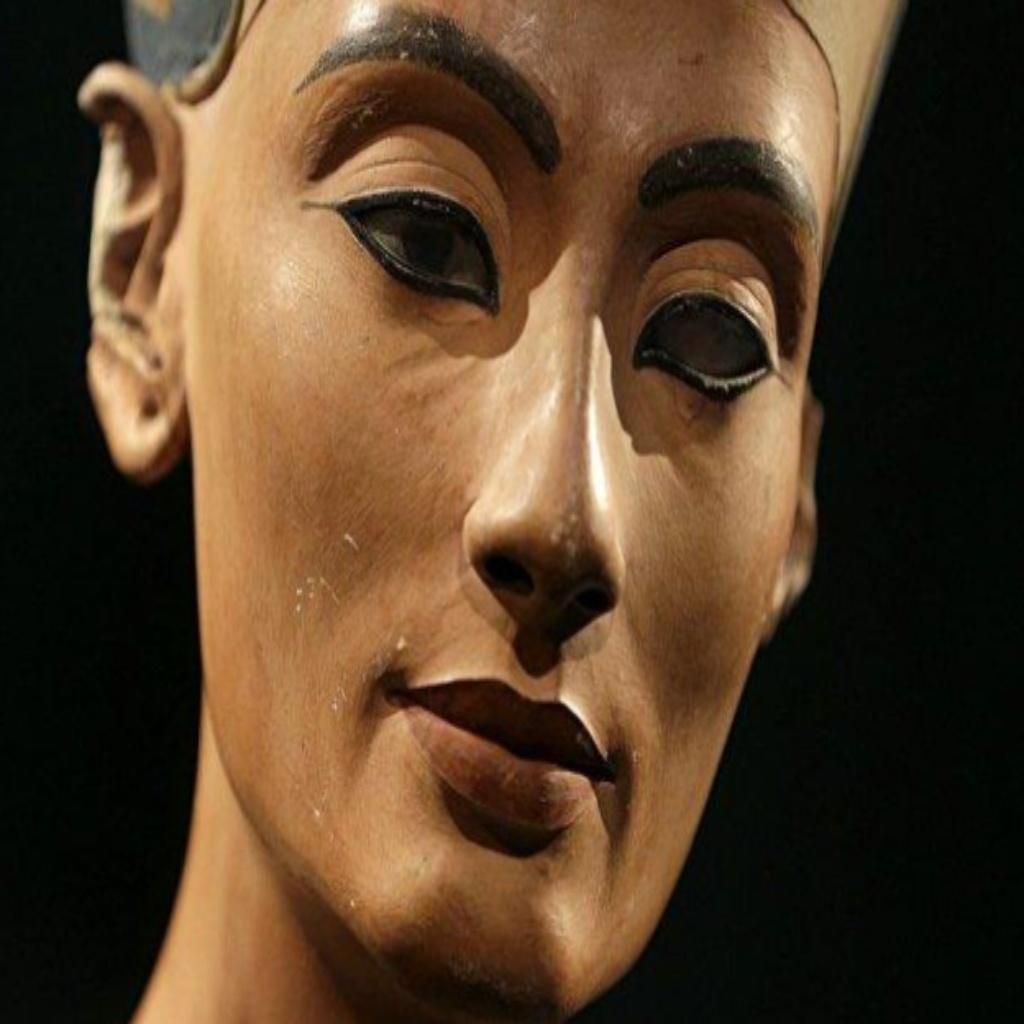Nefertiti: (70, 0, 910, 1021)
